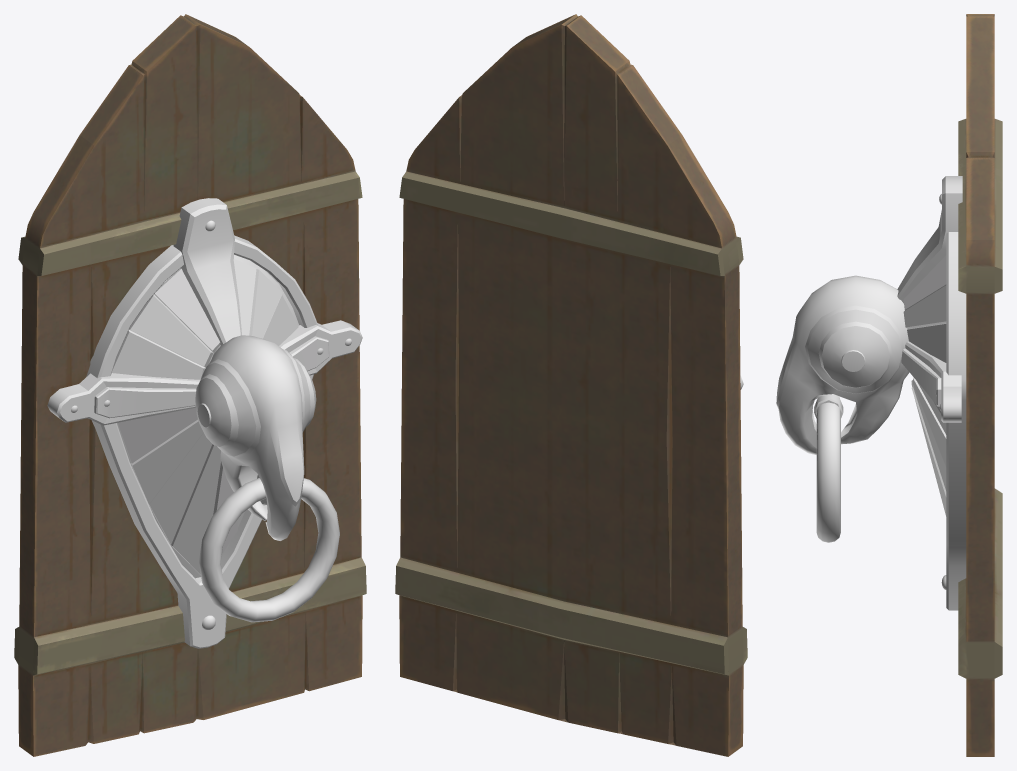
The model's file is ShortcutDoor_Fix_Normal.fbx.
The picture shows the model from 3 angles, left to right: view 1: azimuth 30°, elevation 25°; view 2: azimuth 150°, elevation 25°; view 3: azimuth 270°, elevation 25°; orthographic projection. The views are drawn at different scales.
Parts seen in each view (by area): view 1: ShadowCaster, crowHead, doorRing; view 2: ShadowCaster; view 3: crowHead, ShadowCaster, doorRing.
Boxes of the visible parts, <box> form: ShadowCaster: <box>14,14,366,756</box>; crowHead: <box>47,198,362,648</box>; doorRing: <box>199,475,339,622</box>; ShadowCaster: <box>395,14,747,756</box>; crowHead: <box>776,176,966,610</box>; ShadowCaster: <box>958,14,1002,756</box>; doorRing: <box>814,394,843,542</box>.
Size of the model in its own units: 476 by 960 by 294.
